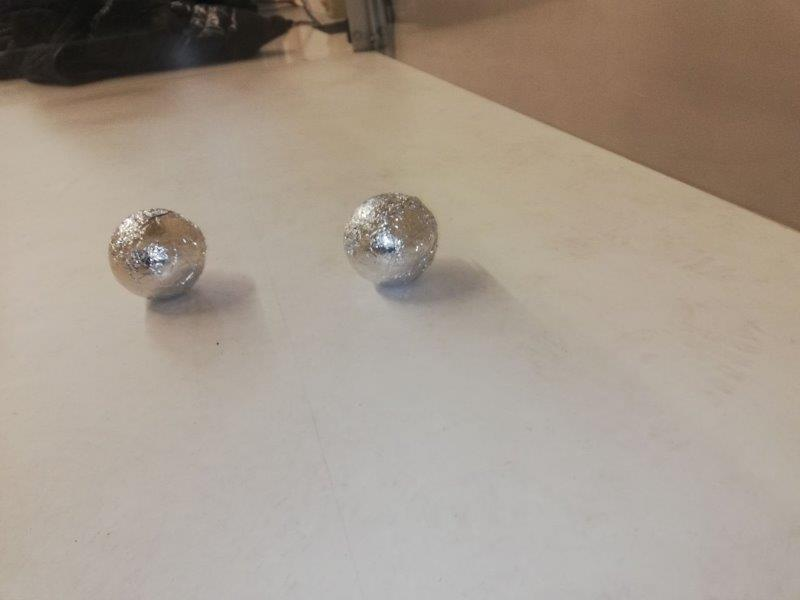bianca: (107, 206, 207, 303), (341, 192, 440, 285)
